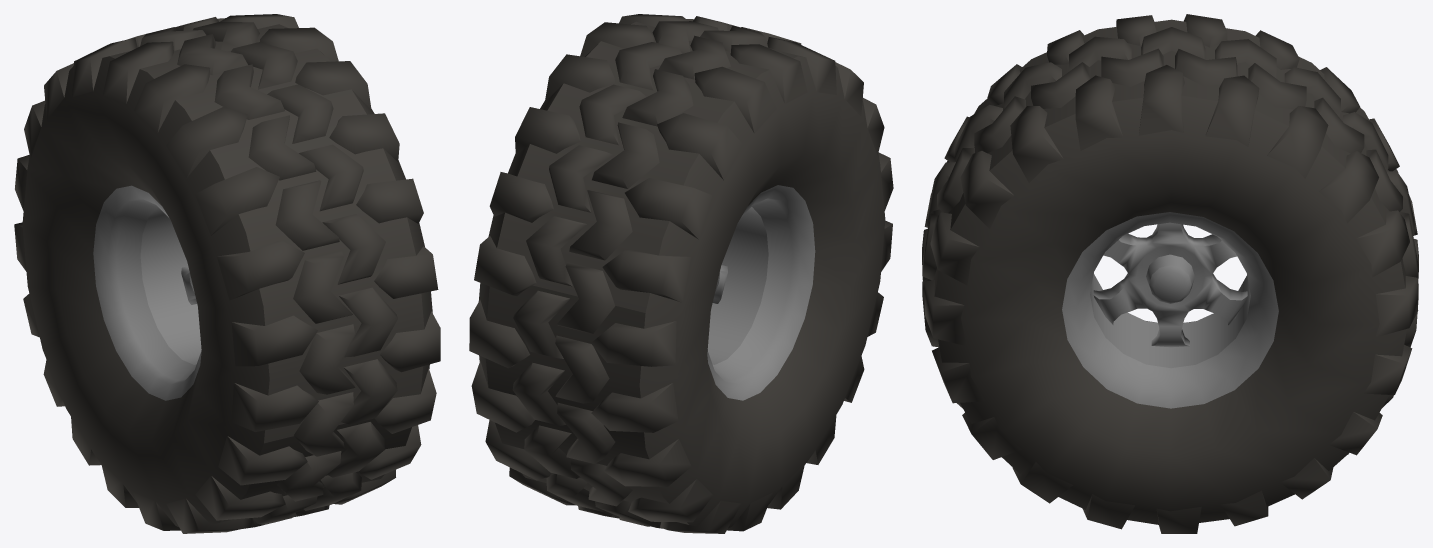
File: Jeep_wheel.obj
3 renders of one model, left to right at view 1: azimuth 30°, elevation 25°; view 2: azimuth 150°, elevation 25°; view 3: azimuth 270°, elevation 25°, orthographic. The views are drawn at different scales.
Parts seen in each view (by area): view 1: Jeep_Wheel_Wheel.001; view 2: Jeep_Wheel_Wheel.001; view 3: Jeep_Wheel_Wheel.001.
Boxes of the visible parts, x1=… form: Jeep_Wheel_Wheel.001: x1=14, y1=14, x2=440, y2=533; Jeep_Wheel_Wheel.001: x1=469, y1=14, x2=893, y2=533; Jeep_Wheel_Wheel.001: x1=922, y1=14, x2=1418, y2=533.
Bounding box in the file's own units: 0.9177 × 2 × 2.
2 materials, 2 textured.
